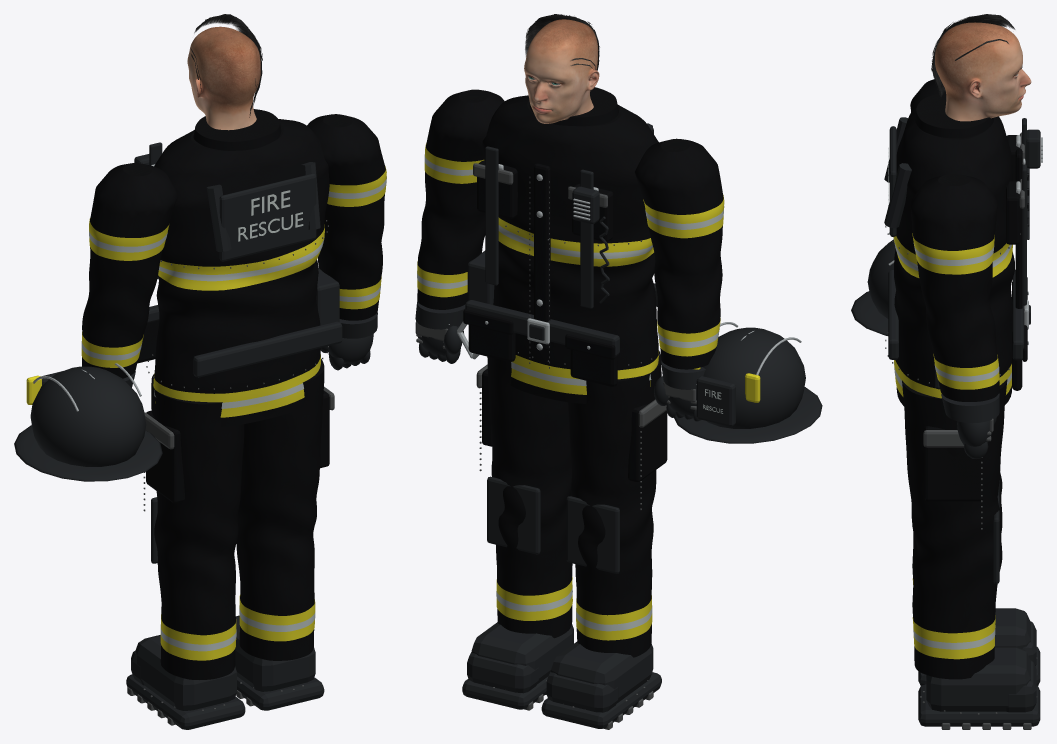
File: firefighter.glb
The picture shows the model from 3 angles, left to right: view 1: azimuth 30°, elevation 25°; view 2: azimuth 150°, elevation 25°; view 3: azimuth 270°, elevation 25°; orthographic projection.
Parts seen in each view (by area): view 1: Body_Charcoal_turnout_fabric, LeftLeg_Charcoal_turnout_fabric, RightLeg_Charcoal_turnout_fabric, LeftArm_Black_gloves_boots_and_harness, Body_Black_gloves_boots_and_harness, LeftArm_Charcoal_turnout_fabric, RightArm_Charcoal_turnout_fabric, Anatomical head and neck, LeftLeg_Black_gloves_boots_and_harness, Body_Safety_yellow, RightLeg_Black_gloves_boots_and_harness, LeftArm_Safety_yellow (+8 smaller); view 2: Body_Charcoal_turnout_fabric, LeftLeg_Charcoal_turnout_fabric, RightLeg_Charcoal_turnout_fabric, LeftArm_Black_gloves_boots_and_harness, LeftArm_Charcoal_turnout_fabric, RightArm_Charcoal_turnout_fabric, LeftLeg_Black_gloves_boots_and_harness, RightLeg_Black_gloves_boots_and_harness, Body_Black_gloves_boots_and_harness, Anatomical head and neck, Body_Safety_yellow, LeftArm_Safety_yellow (+10 smaller); view 3: RightLeg_Charcoal_turnout_fabric, Body_Charcoal_turnout_fabric, RightArm_Charcoal_turnout_fabric, RightLeg_Black_gloves_boots_and_harness, Anatomical head and neck, Body_Black_gloves_boots_and_harness, RightArm_Safety_yellow, LeftArm_Black_gloves_boots_and_harness, RightArm_Black_gloves_boots_and_harness, LeftLeg_Black_gloves_boots_and_harness, RightLeg_Safety_yellow, Body_Safety_yellow (+7 smaller).
Boxes of the visible parts, box(x1,y1,x2,y2) form: Body_Charcoal_turnout_fabric: box(137, 109, 329, 426); LeftLeg_Charcoal_turnout_fabric: box(146, 374, 244, 679); RightLeg_Charcoal_turnout_fabric: box(236, 358, 329, 660); LeftArm_Black_gloves_boots_and_harness: box(14, 366, 162, 481); Body_Black_gloves_boots_and_harness: box(134, 142, 342, 377); LeftArm_Charcoal_turnout_fabric: box(82, 163, 178, 378); RightArm_Charcoal_turnout_fabric: box(307, 114, 385, 320); Anatomical head and neck: box(187, 26, 260, 130); LeftLeg_Black_gloves_boots_and_harness: box(126, 497, 245, 729); Body_Safety_yellow: box(153, 224, 324, 417); RightLeg_Black_gloves_boots_and_harness: box(235, 543, 324, 710); LeftArm_Safety_yellow: box(26, 218, 169, 404); Body_Charcoal_turnout_fabric: box(463, 87, 658, 403); LeftLeg_Charcoal_turnout_fabric: box(568, 351, 667, 657); RightLeg_Charcoal_turnout_fabric: box(482, 356, 572, 638); LeftArm_Black_gloves_boots_and_harness: box(654, 327, 822, 443); LeftArm_Charcoal_turnout_fabric: box(635, 138, 723, 369); RightArm_Charcoal_turnout_fabric: box(417, 89, 504, 309); LeftLeg_Black_gloves_boots_and_harness: box(541, 496, 661, 728); RightLeg_Black_gloves_boots_and_harness: box(462, 476, 573, 709); Body_Black_gloves_boots_and_harness: box(465, 123, 657, 356); Anatomical head and neck: box(524, 19, 599, 123); Body_Safety_yellow: box(498, 217, 658, 394); LeftArm_Safety_yellow: box(643, 194, 760, 402); RightLeg_Charcoal_turnout_fabric: box(902, 379, 1007, 679); Body_Charcoal_turnout_fabric: box(894, 92, 1027, 425); RightArm_Charcoal_turnout_fabric: box(910, 174, 999, 401); RightLeg_Black_gloves_boots_and_harness: box(918, 495, 1040, 726); Anatomical head and neck: box(935, 22, 1031, 121); Body_Black_gloves_boots_and_harness: box(884, 117, 1040, 389); RightArm_Safety_yellow: box(912, 233, 999, 389); LeftArm_Black_gloves_boots_and_harness: box(851, 239, 895, 335); RightArm_Black_gloves_boots_and_harness: box(941, 393, 999, 458); LeftLeg_Black_gloves_boots_and_harness: box(918, 480, 1040, 685); RightLeg_Safety_yellow: box(912, 615, 995, 659); Body_Safety_yellow: box(893, 236, 1012, 398).
Bounding box in the file's own units: 1.06 × 1.84 × 0.4725.
Materials: 10 (5 with a texture image).
